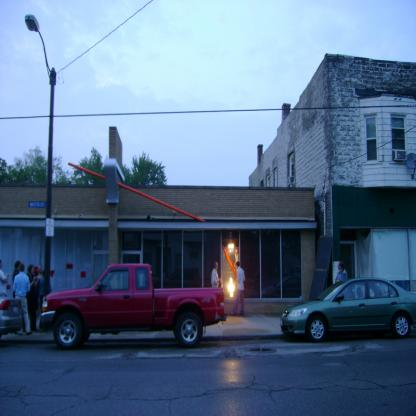Car: (276, 275, 416, 345)
